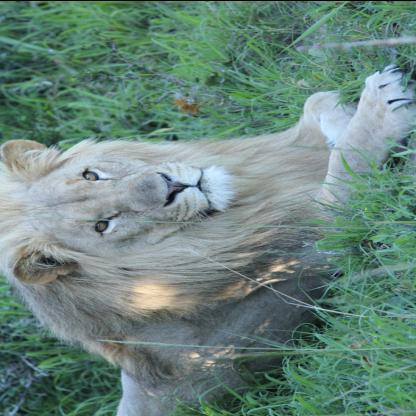lion: (0, 128, 262, 290)
